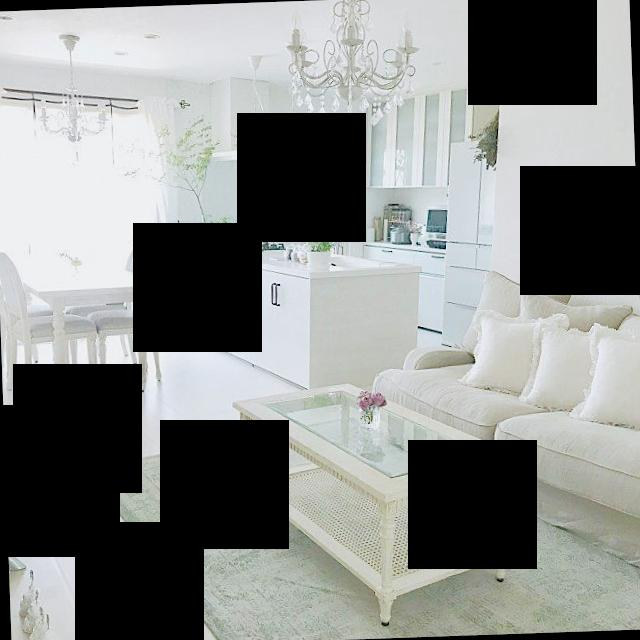white sofa: (370, 290, 616, 528)
